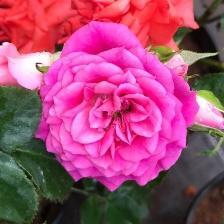rose: (34, 19, 201, 194)
